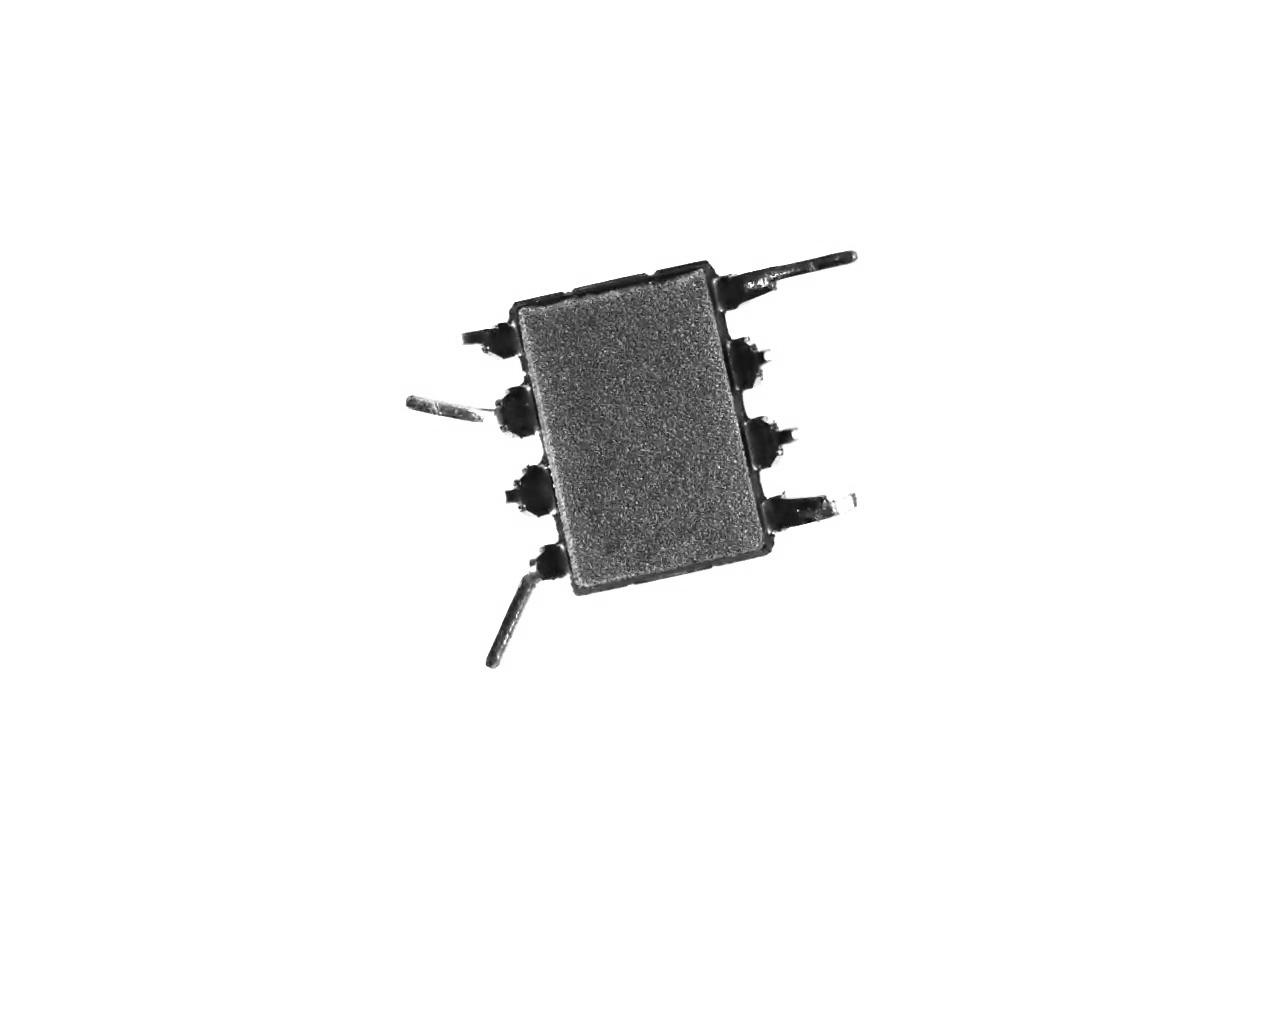Leg: (483, 536, 571, 684), (707, 240, 867, 320), (371, 385, 533, 459), (765, 473, 875, 556)
brokenLeg: (426, 316, 523, 363), (746, 410, 817, 471), (488, 464, 555, 526), (729, 333, 774, 400)
